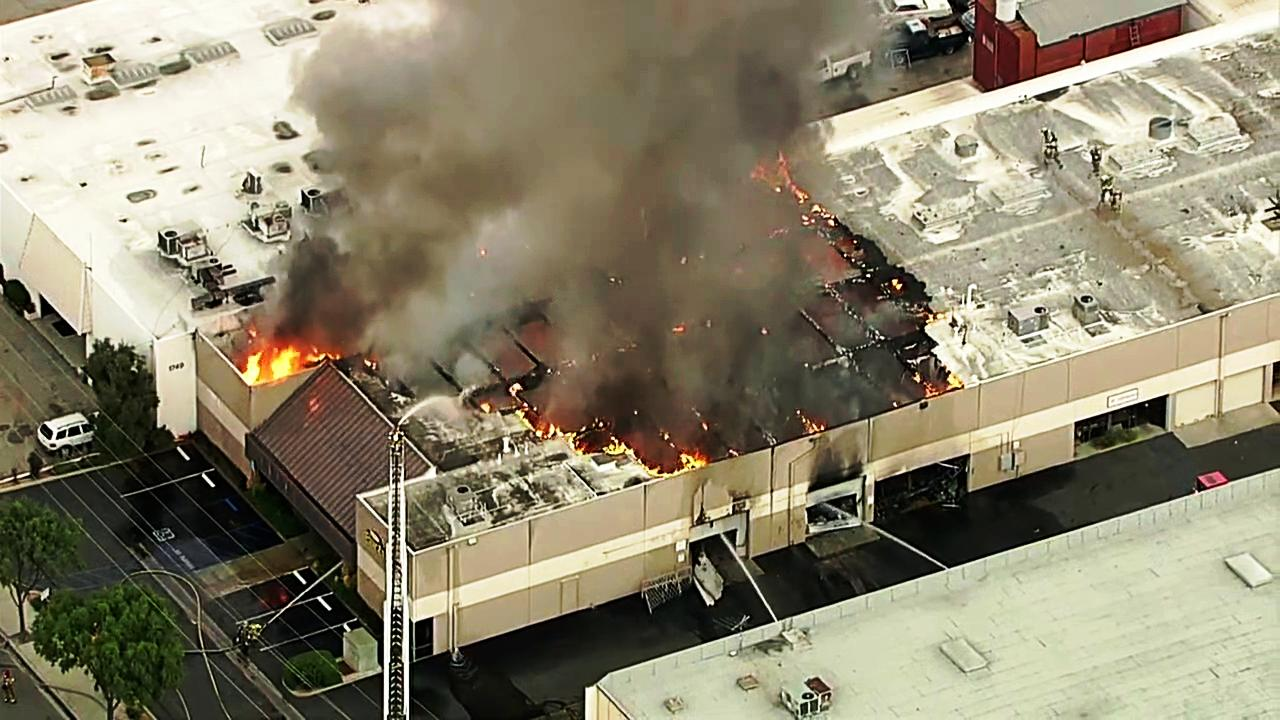fire: (234, 339, 301, 395)
smoke: (467, 0, 724, 400)
